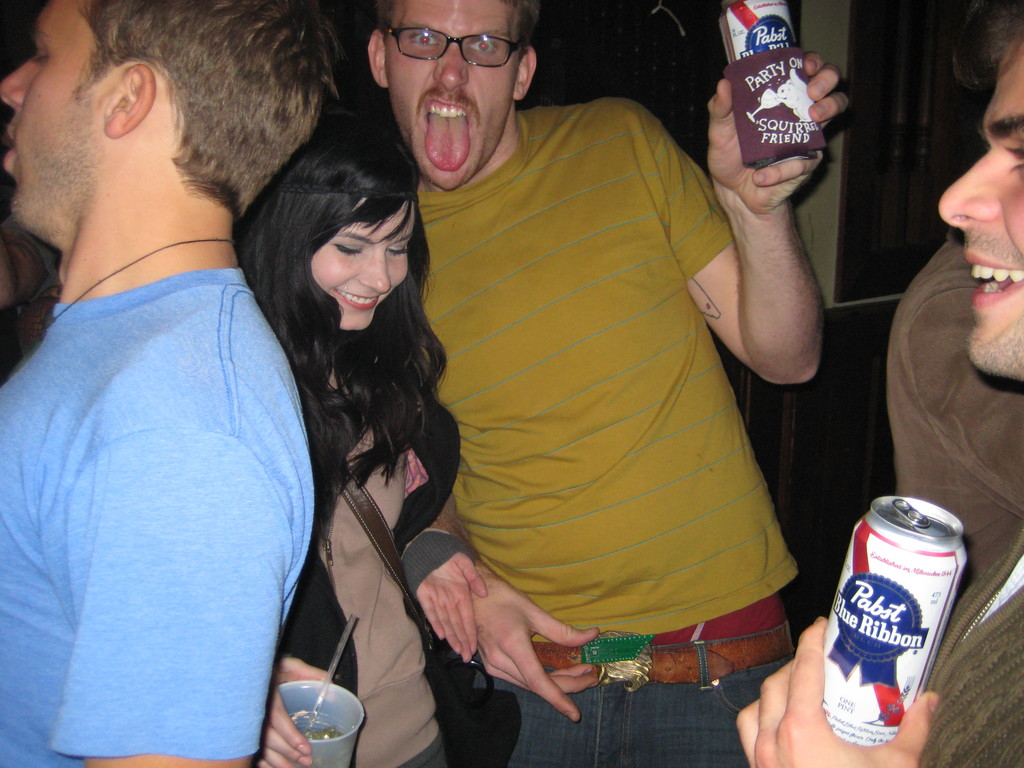Human_hand: (733, 614, 941, 767), (687, 32, 847, 220), (467, 569, 604, 728), (399, 528, 489, 663), (253, 651, 333, 767)
